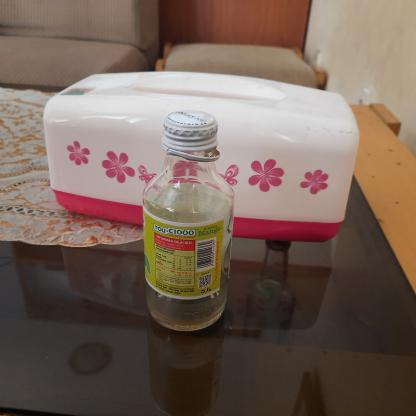keyboard: (135, 102, 236, 340)
